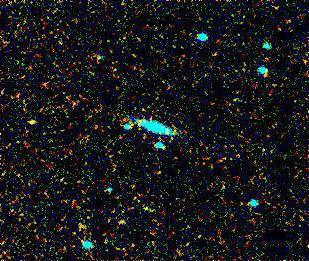star: (11, 107, 41, 137)
